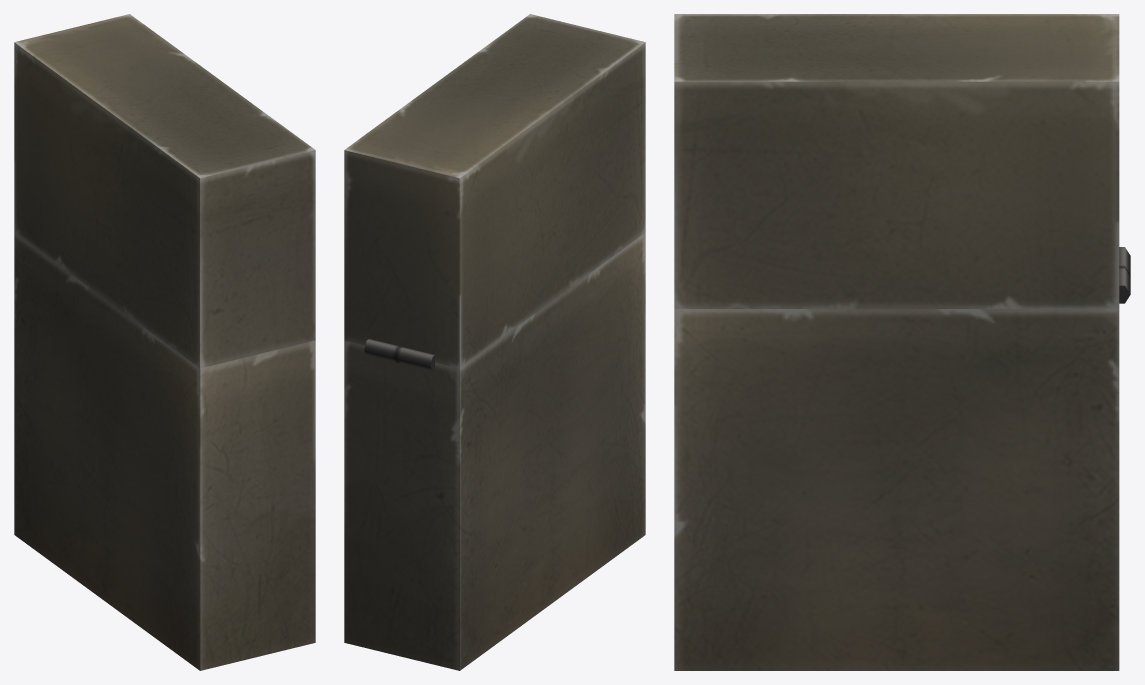
File: ITEM_Lighter.FBX
The picture shows the model from 3 angles, left to right: view 1: azimuth 30°, elevation 25°; view 2: azimuth 150°, elevation 25°; view 3: azimuth 270°, elevation 25°; orthographic projection. The views are drawn at different scales.
Visible parts, largest first — view 1: ITEM_lighter, ITEM_lighter_lid; view 2: ITEM_lighter, ITEM_lighter_lid; view 3: ITEM_lighter, ITEM_lighter_lid.
Boxes of the visible parts, x1=… form: ITEM_lighter: x1=14, y1=232, x2=315, y2=670; ITEM_lighter_lid: x1=14, y1=14, x2=315, y2=368; ITEM_lighter: x1=344, y1=232, x2=645, y2=670; ITEM_lighter_lid: x1=344, y1=14, x2=645, y2=368; ITEM_lighter: x1=674, y1=247, x2=1130, y2=670; ITEM_lighter_lid: x1=674, y1=14, x2=1119, y2=308.
Size of the model in its own units: 1.4 by 5.7 by 4.
